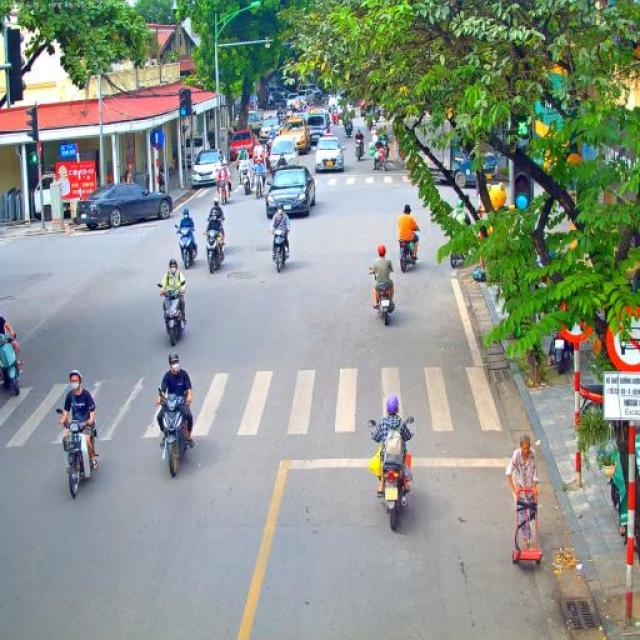car: (75, 181, 174, 231), (265, 164, 316, 220), (191, 148, 227, 188), (267, 134, 299, 178), (314, 136, 346, 173), (280, 116, 310, 154), (305, 110, 331, 150), (230, 128, 256, 161), (260, 117, 284, 148), (297, 90, 315, 110), (286, 94, 299, 115), (310, 89, 322, 102)
motorcycle: (368, 415, 416, 530), (56, 408, 100, 498), (156, 386, 192, 476), (157, 282, 187, 346), (370, 266, 395, 326), (0, 332, 21, 397), (547, 327, 574, 375), (174, 223, 198, 269), (204, 227, 225, 274), (398, 228, 418, 272), (270, 228, 289, 272), (578, 383, 604, 412), (450, 231, 470, 268), (216, 176, 232, 206), (250, 170, 266, 200), (373, 146, 391, 172), (254, 152, 270, 179), (239, 166, 253, 195), (354, 140, 366, 161), (266, 136, 276, 156), (276, 115, 284, 134), (345, 120, 354, 136), (334, 113, 338, 125)
truck: (414, 114, 500, 190), (234, 109, 264, 139)
